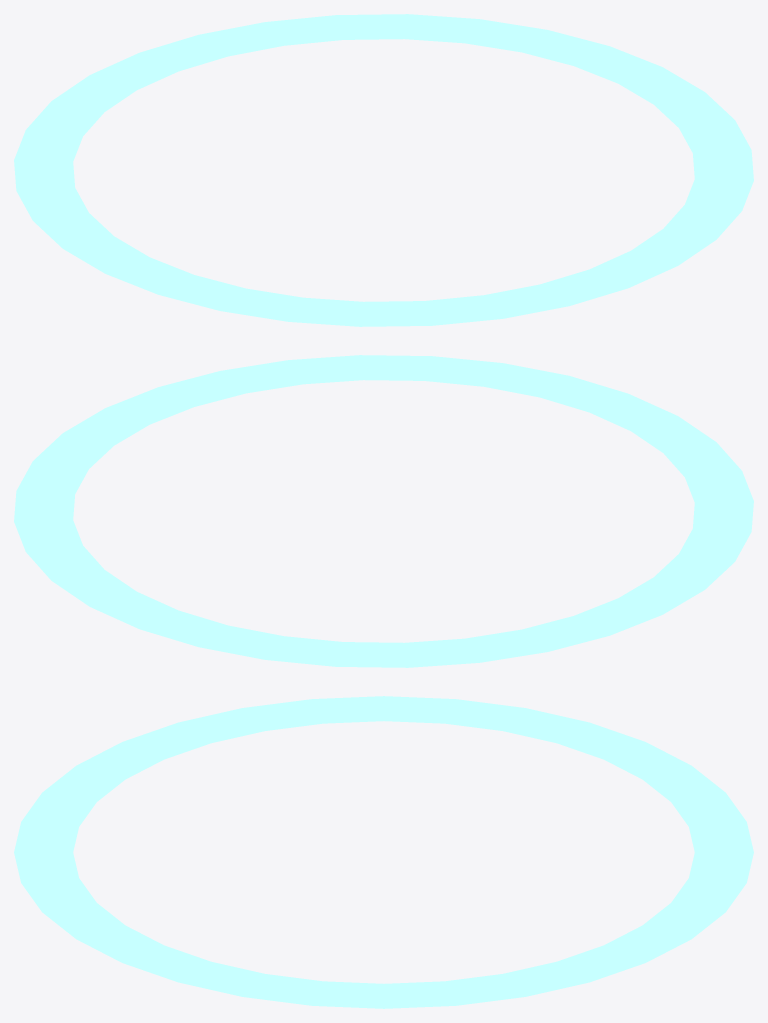
File: FX_ShockRing.fbx
3 views of the same model, one above another, from view 1: azimuth 30°, elevation 25°; view 2: azimuth 150°, elevation 25°; view 3: azimuth 270°, elevation 25° (orthographic).
Parts seen in each view (by area): view 1: FX_ShockRing; view 2: FX_ShockRing; view 3: FX_ShockRing.
Boxes of the visible parts, <box> form: FX_ShockRing: <box>14,14,753,326</box>; FX_ShockRing: <box>14,355,753,667</box>; FX_ShockRing: <box>14,696,753,1008</box>.
Size of the model in its own units: 100 by 1.63e-05 by 100.
